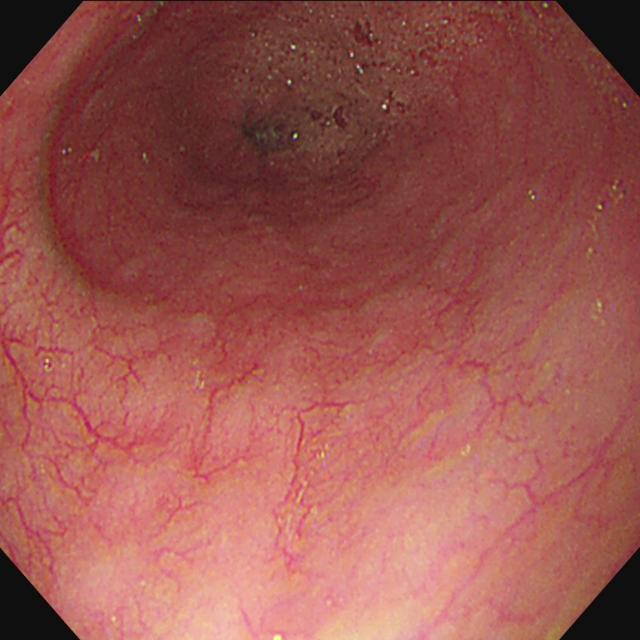T: (244, 2, 506, 158)
